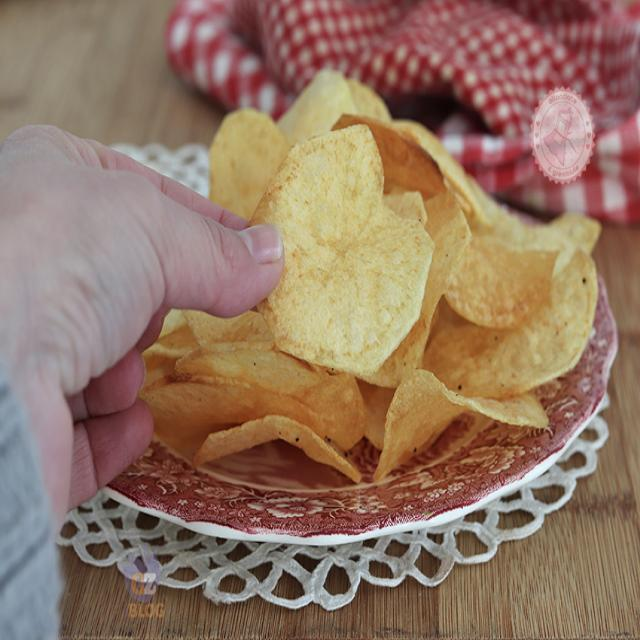Chips packaged: (244, 140, 434, 372)
